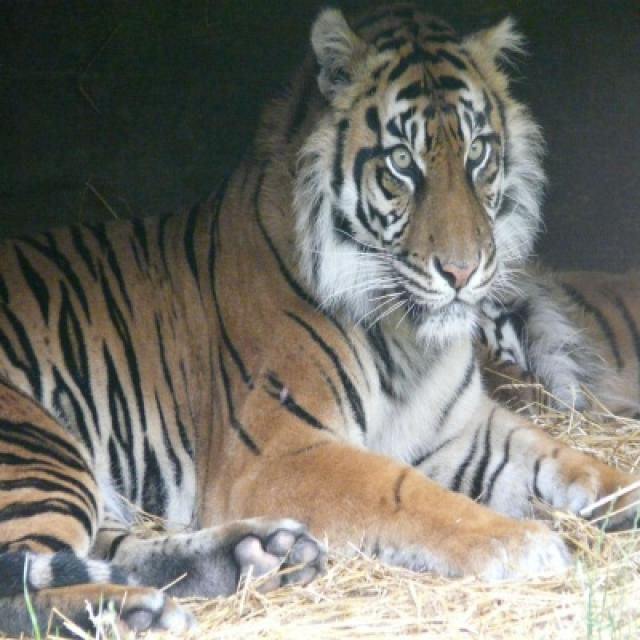Tiger: (0, 5, 630, 595)
